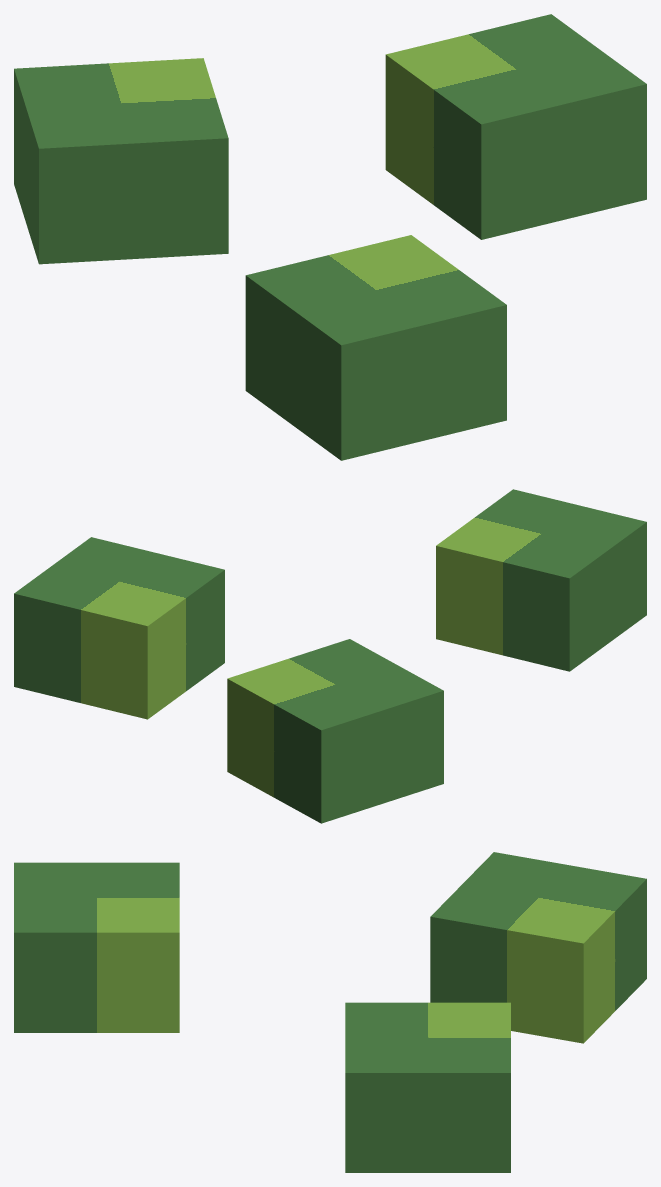
Rendered from wheat-seeds.gltf.
3 views of the same model, one above another, from view 1: azimuth 30°, elevation 25°; view 2: azimuth 150°, elevation 25°; view 3: azimuth 270°, elevation 25° (orthographic). The views are drawn at different scales.
Parts seen in each view (by area): view 1: cube (×3); view 2: cube (×3); view 3: cube (×3).
Part boxes in pixels (x1,y1,x2,y2): cube (×3): (14,14,646,460); cube (×3): (14,489,646,823); cube (×3): (14,852,646,1172).
Bounding box in the file's own units: 0.2956 × 0.0625 × 0.3581.
Materials: 1 (1 with a texture image).
